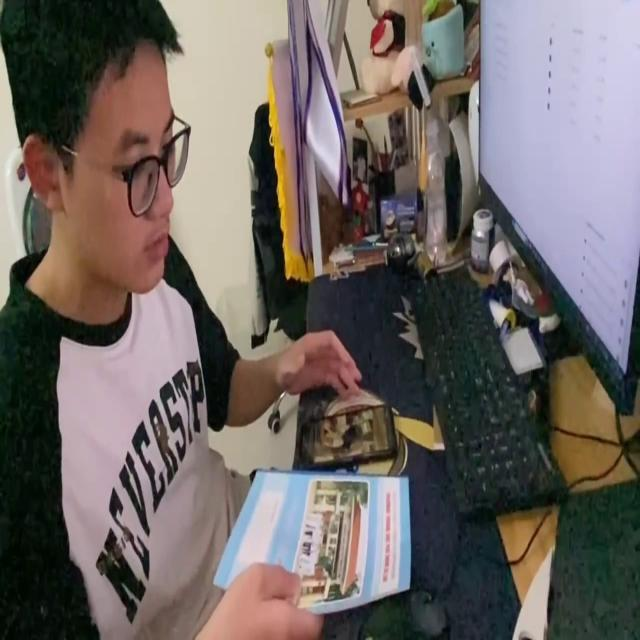book: (216, 462, 412, 622)
laptop: (475, 0, 640, 418)
phone: (291, 400, 398, 471)
student: (1, 0, 363, 640)
